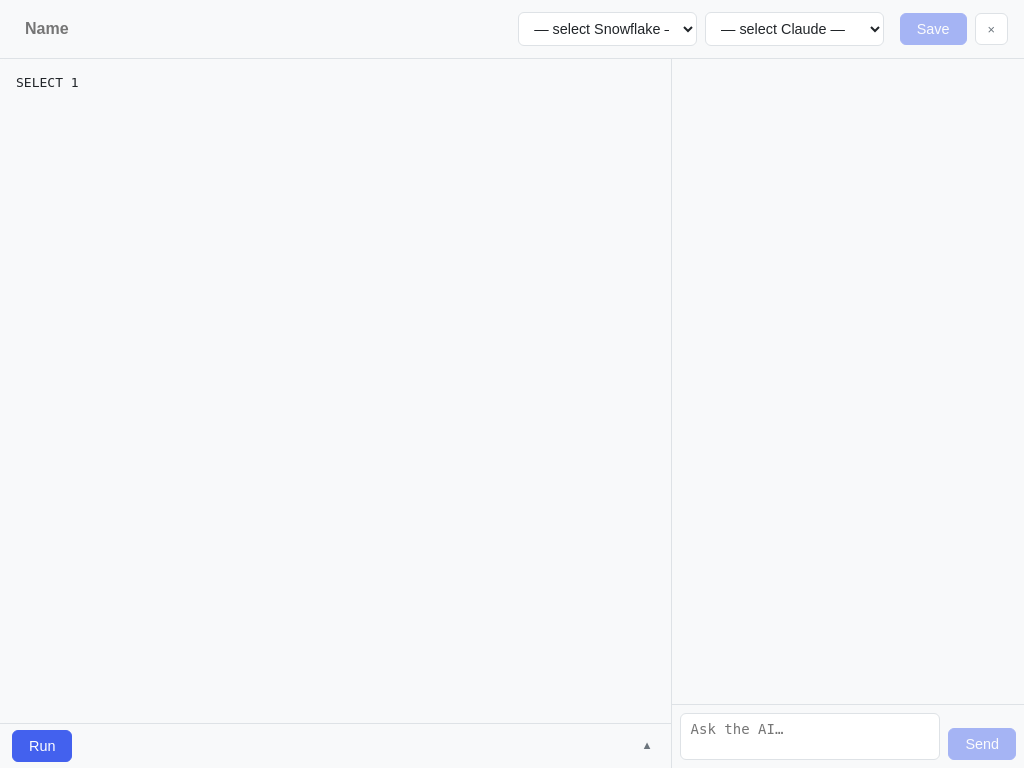
Test: DatasetDialog › should abort request and hide Cancel when Cancel clicked
Click the button "Run": (42, 746) 12,730 -> 72,762
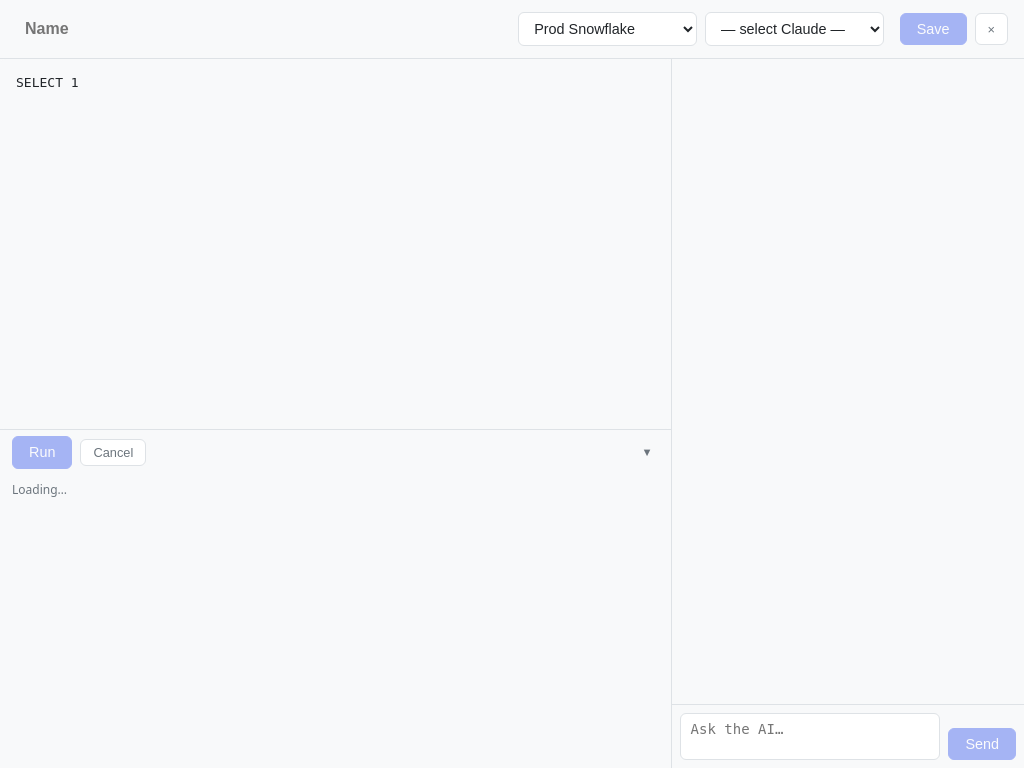
Expected: the button "Cancel" is shown
Click the button "Cancel": (113, 452) 80,439 -> 146,466
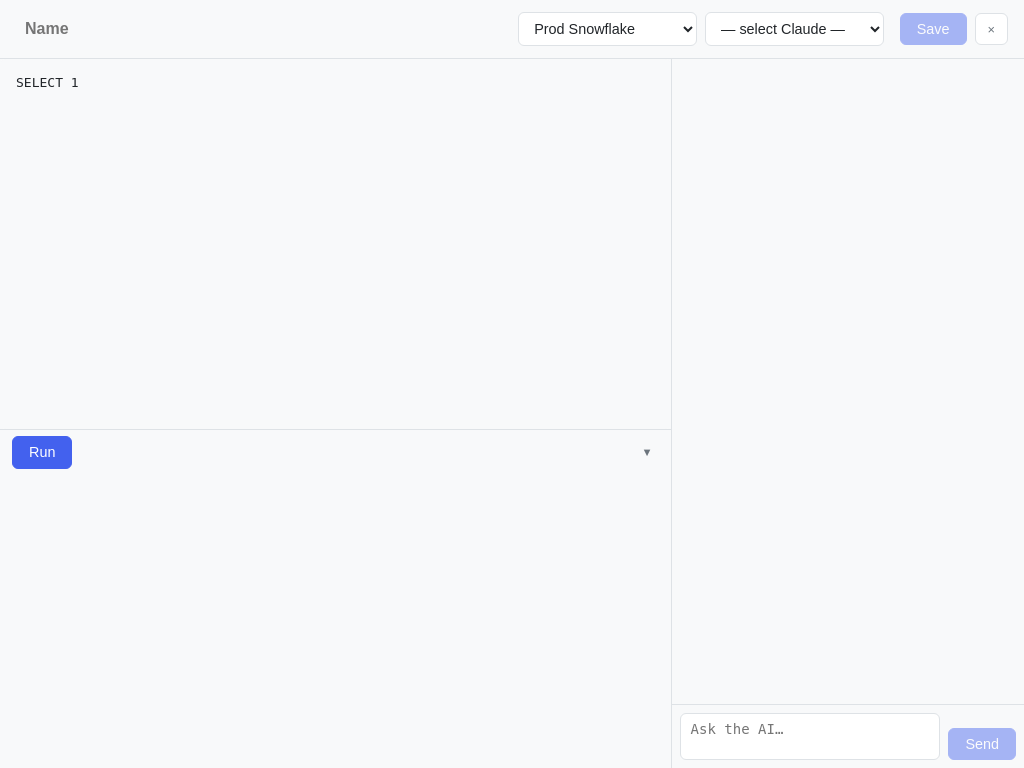
Expected: the button "Cancel" is gone
